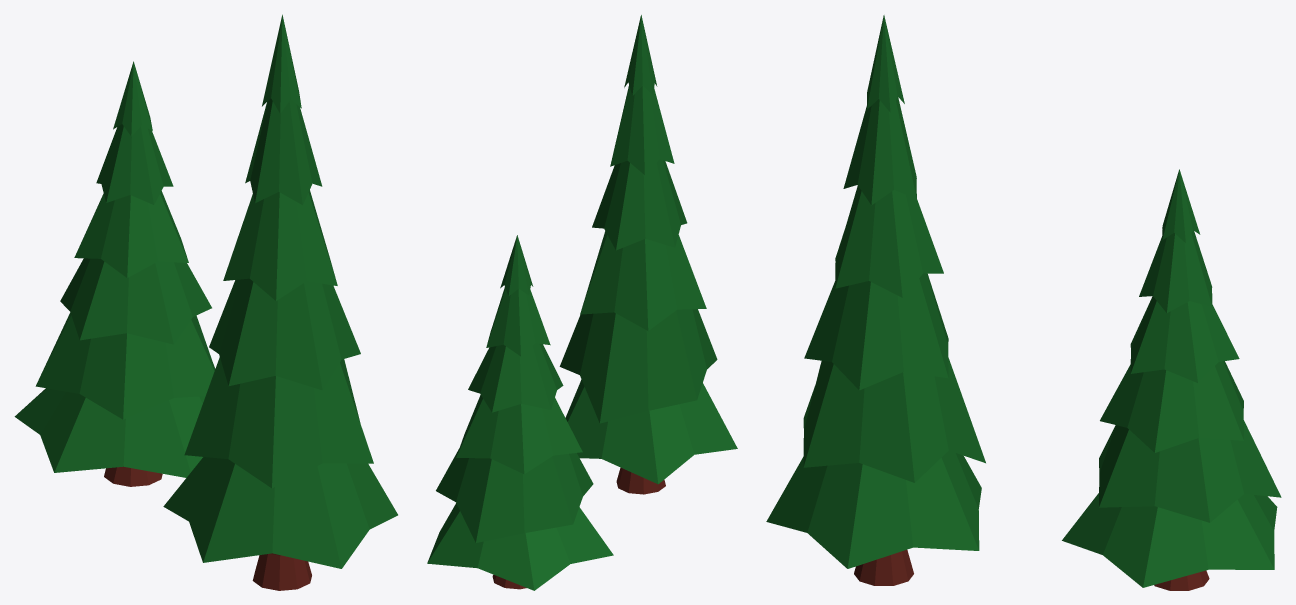
The model's file is Tree_03.fbx.
3 renders of one model, left to right at view 1: azimuth 30°, elevation 25°; view 2: azimuth 150°, elevation 25°; view 3: azimuth 270°, elevation 25°, orthographic. The views are drawn at different scales.
Parts seen in each view (by area): view 1: Tree_03; view 2: Tree_03; view 3: Tree_03.
Boxes of the visible parts, x1,y1,x2,y2 form: Tree_03: (14, 14, 397, 590); Tree_03: (427, 15, 737, 590); Tree_03: (766, 15, 1281, 590).
Bounding box in the file's own units: 312 × 867 × 717.
